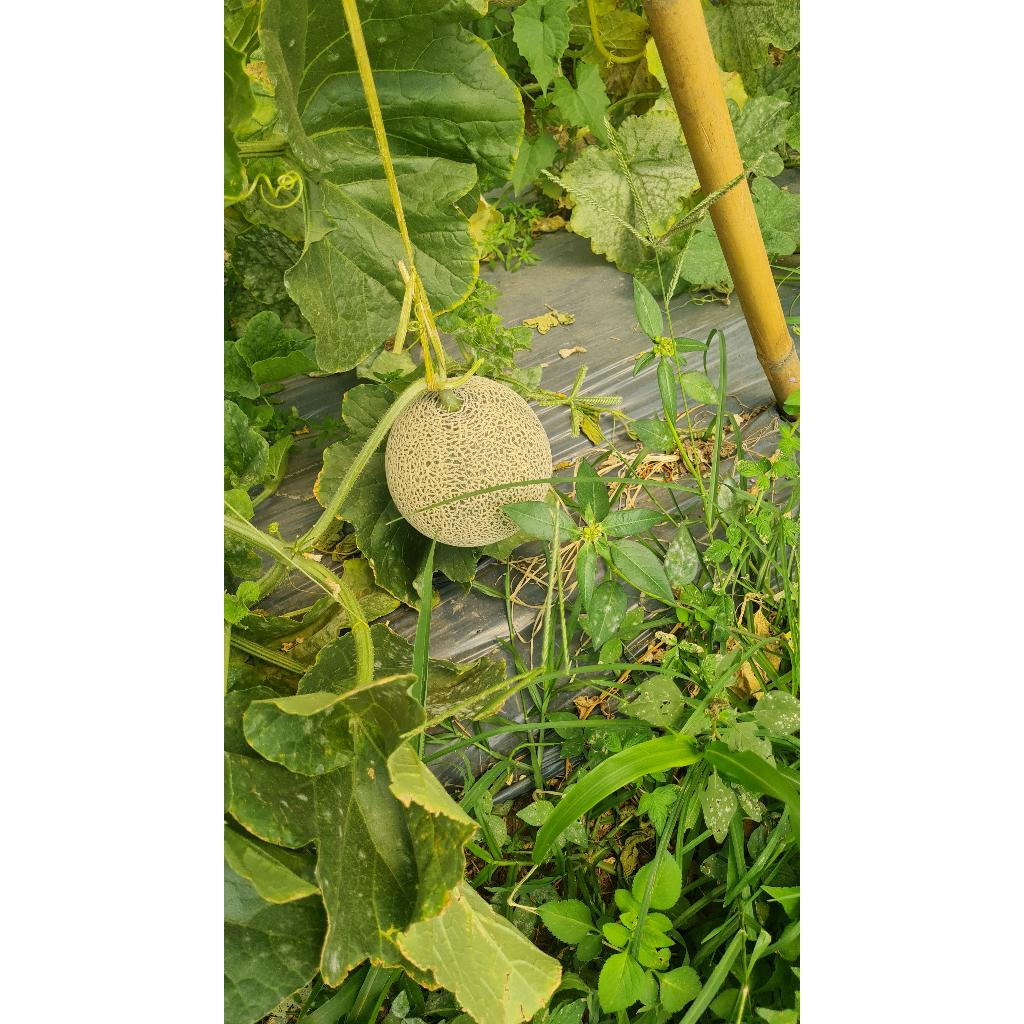melon: (384, 376, 552, 546)
